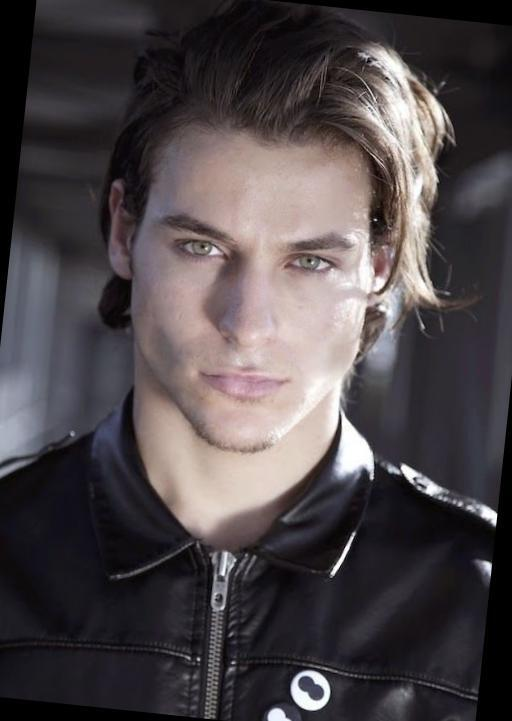Sober: (129, 134, 358, 439)
